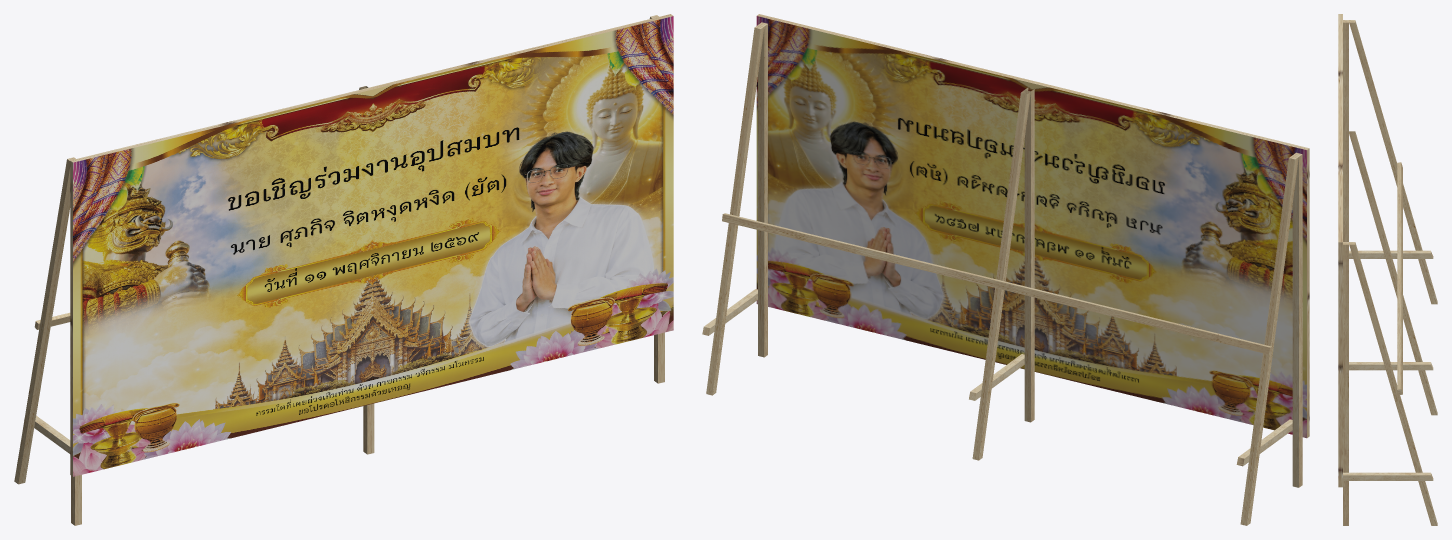
File: TempleSign 3x6m.fbx
The picture shows the model from 3 angles, left to right: view 1: azimuth 30°, elevation 25°; view 2: azimuth 150°, elevation 25°; view 3: azimuth 270°, elevation 25°; orthographic projection. The views are drawn at different scales.
Visible parts, largest first — view 1: TempleSign 3x6m; view 2: TempleSign 3x6m; view 3: TempleSign 3x6m.
Boxes of the visible parts, box(x1,y1,x2,y2) form: TempleSign 3x6m: box(14, 14, 673, 525); TempleSign 3x6m: box(702, 14, 1309, 525); TempleSign 3x6m: box(1338, 14, 1437, 525).
Bounding box in the file's own units: 601 × 350 × 110.
Materials: 2 (2 with a texture image).
